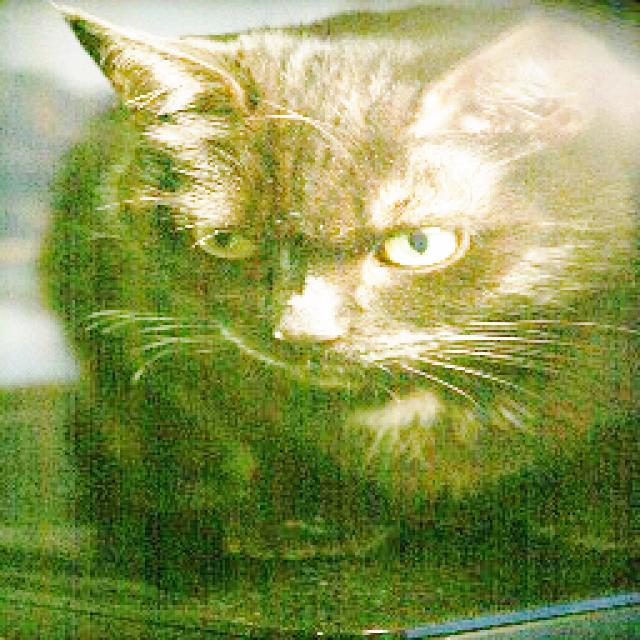cat: (19, 0, 640, 527)
